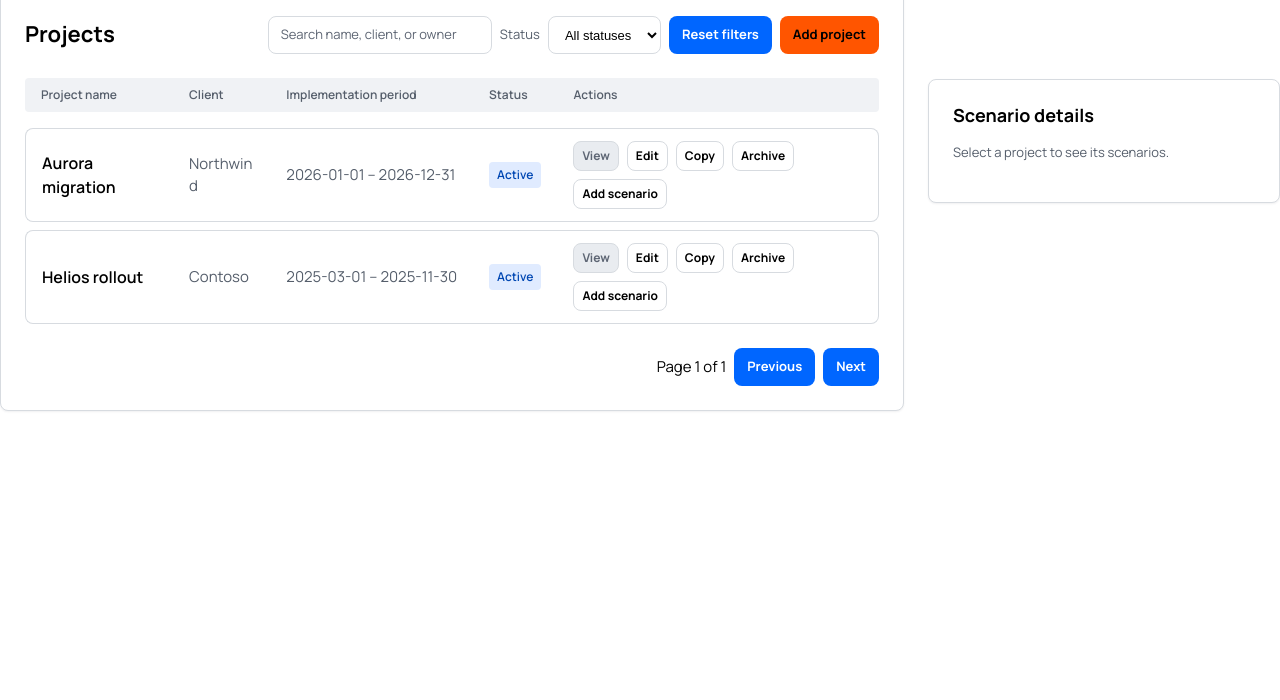
Test: K-03 — the rule's presence decides whether 'Set Time & Material' is offered › shows where the rates came from, the windows used and the months without a rate — by month, never by position
The image size is (1280, 700).
Step 1. Click the button "Aurora migration" → (100,175), box [42, 151, 157, 199]
(page scrolled)
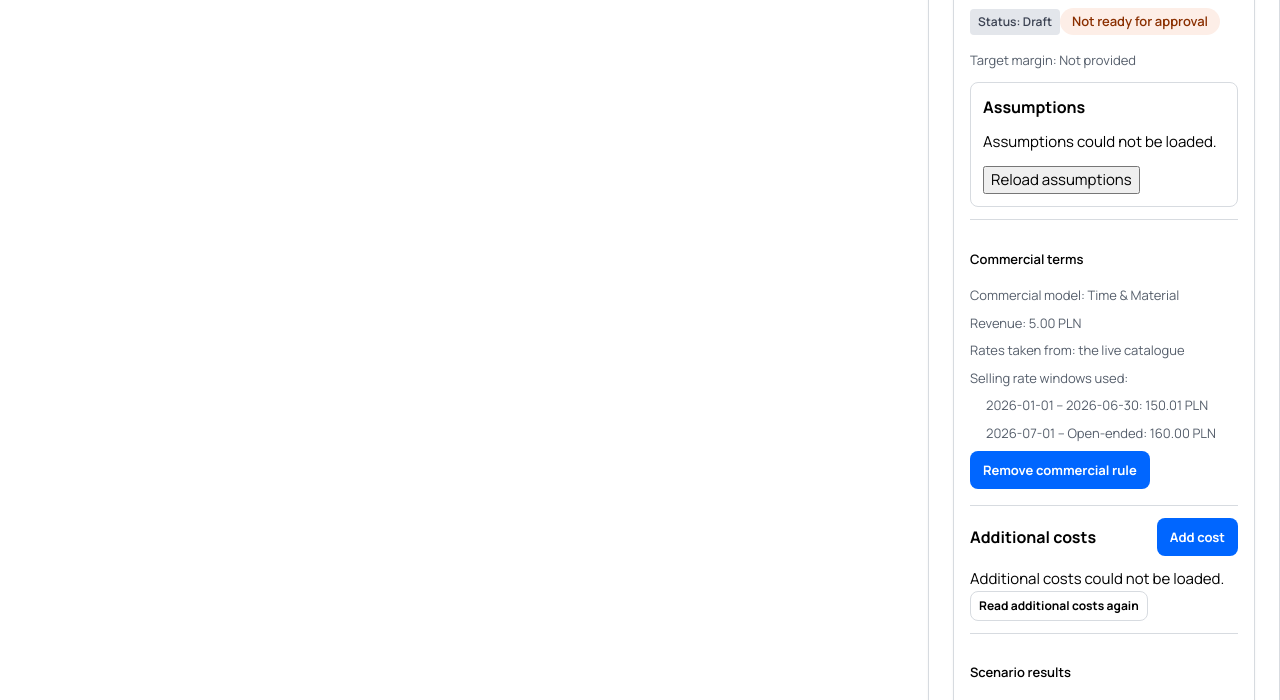
Expected: the text "Rates taken from: the live catalogue" is shown, [970, 341, 1184, 359]
